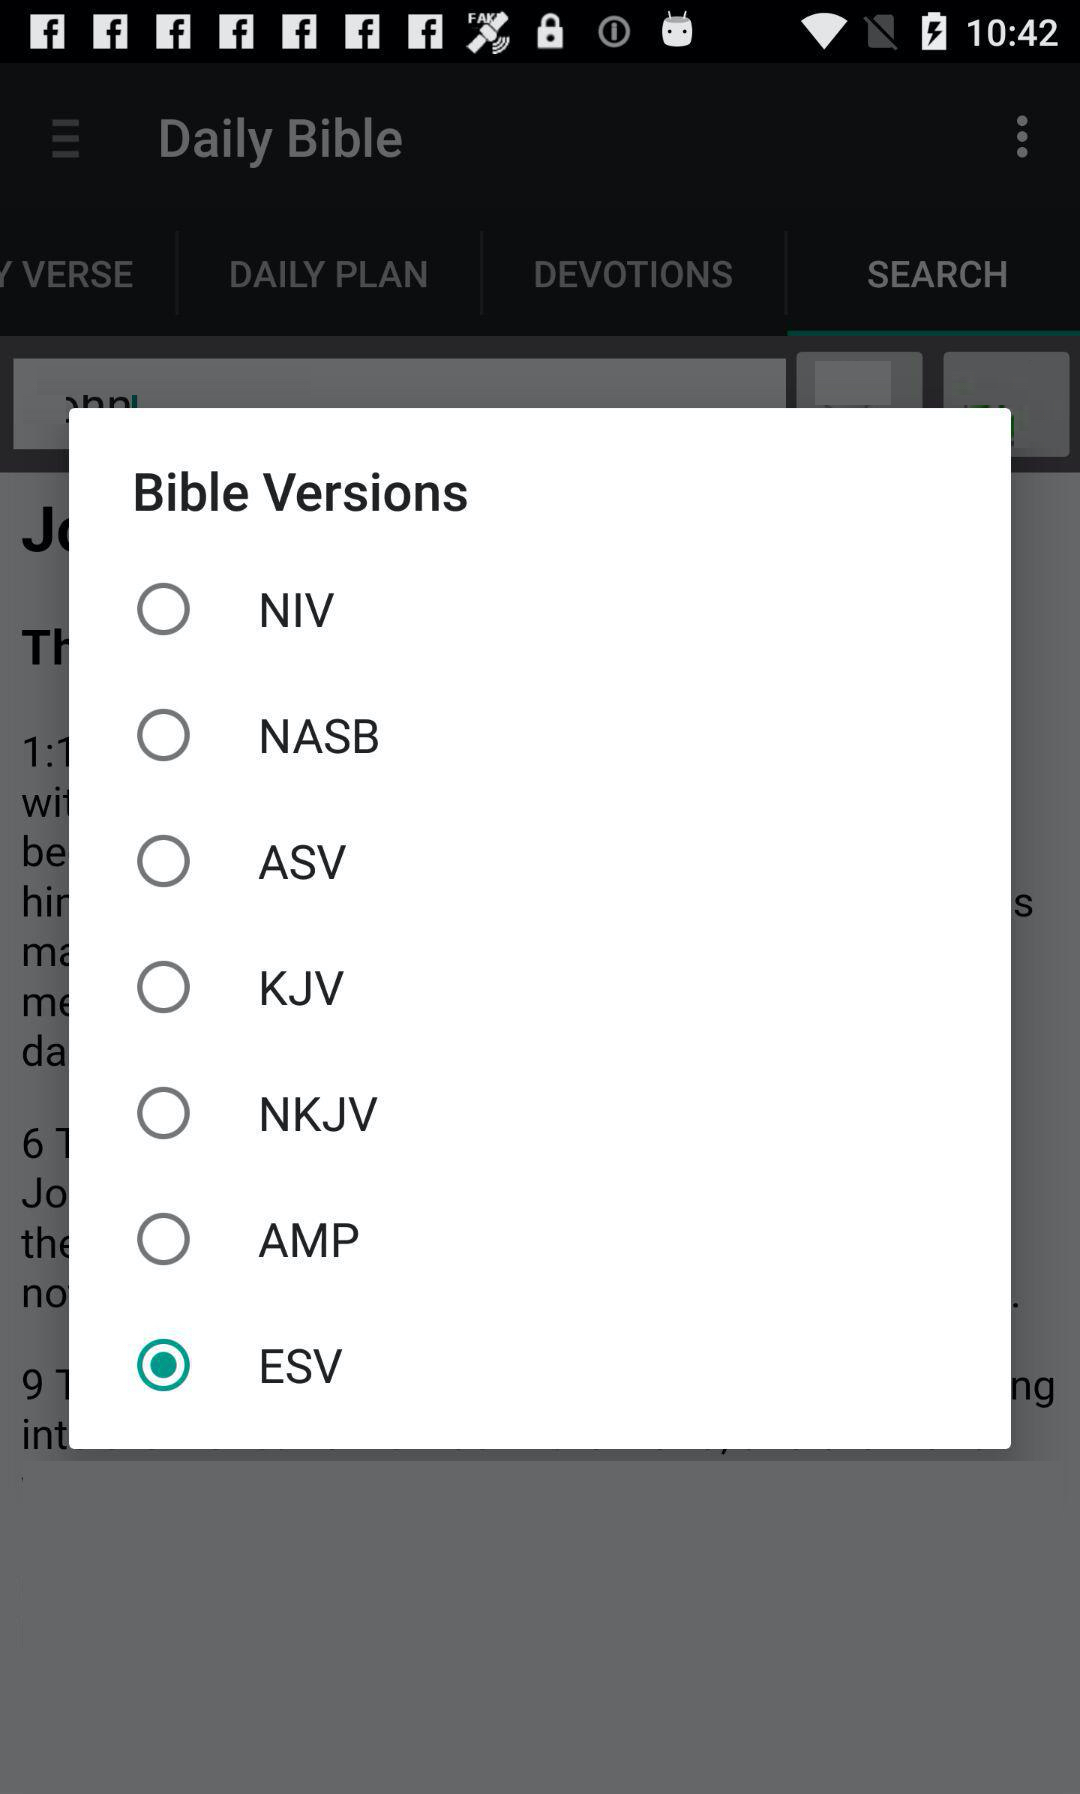CheckedTextView: (137, 1085, 378, 1140), (137, 709, 379, 762), (137, 1212, 360, 1266), (137, 834, 347, 889), (137, 960, 345, 1014), (137, 1338, 345, 1392), (137, 582, 336, 636)
Icon: (1016, 117, 1029, 160)
Modal: (69, 409, 1012, 1451)
Text: (135, 472, 471, 513), (161, 117, 404, 170), (231, 260, 428, 290), (536, 260, 733, 290), (261, 718, 379, 755), (263, 1096, 378, 1133), (867, 261, 1007, 290), (1, 260, 135, 290), (258, 1222, 360, 1258), (259, 844, 347, 882), (263, 1347, 345, 1385), (261, 970, 345, 1007), (263, 592, 336, 629)
UpperTaskBar: (1, 1, 1080, 64)
